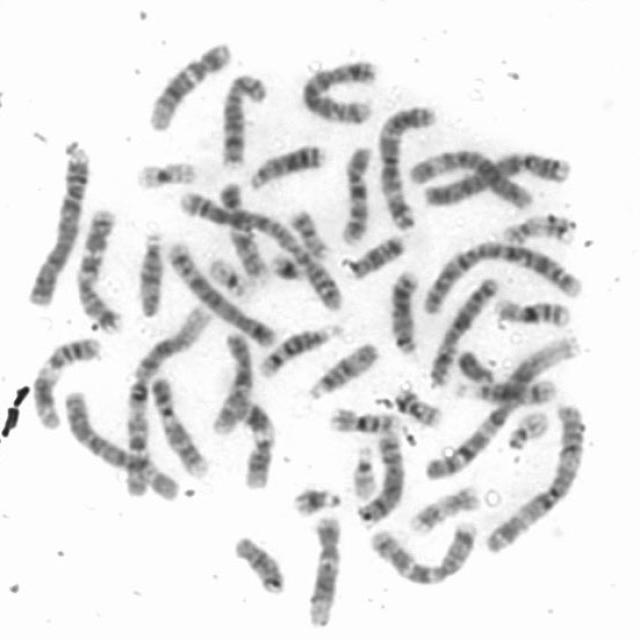A1: (420, 329, 584, 484), (120, 302, 212, 447)
A2: (175, 188, 345, 313), (416, 237, 584, 316)
A3: (480, 400, 589, 555), (373, 101, 438, 232)
B4: (22, 143, 92, 308), (413, 145, 574, 209)
B5: (164, 238, 278, 348), (297, 56, 379, 126)
C10: (207, 327, 256, 435), (335, 141, 375, 248)
C11: (29, 332, 102, 431), (231, 398, 277, 492)
C12: (143, 36, 233, 132), (302, 512, 344, 629)
C6: (59, 385, 181, 503), (409, 145, 538, 210)
C7: (364, 516, 478, 588), (73, 207, 127, 332)
C8: (352, 427, 406, 526), (215, 70, 268, 169)
C9: (149, 373, 209, 478), (215, 178, 271, 285)
D13: (245, 139, 328, 191), (384, 266, 420, 356)
D14: (254, 319, 343, 379), (448, 374, 559, 406)
D15: (303, 340, 380, 401), (134, 227, 166, 318)
E16: (490, 294, 574, 329), (324, 404, 403, 436)
E17: (403, 481, 483, 536), (498, 210, 578, 247)
E18: (230, 530, 286, 596), (345, 230, 407, 280)
F19: (130, 156, 200, 191), (204, 252, 253, 300)
F20: (286, 206, 331, 260), (391, 385, 444, 430)
G21: (288, 482, 343, 518), (267, 249, 307, 284)
G22: (502, 406, 552, 451), (348, 442, 378, 501)
X: (424, 275, 499, 384)
Y: (454, 345, 496, 385)
